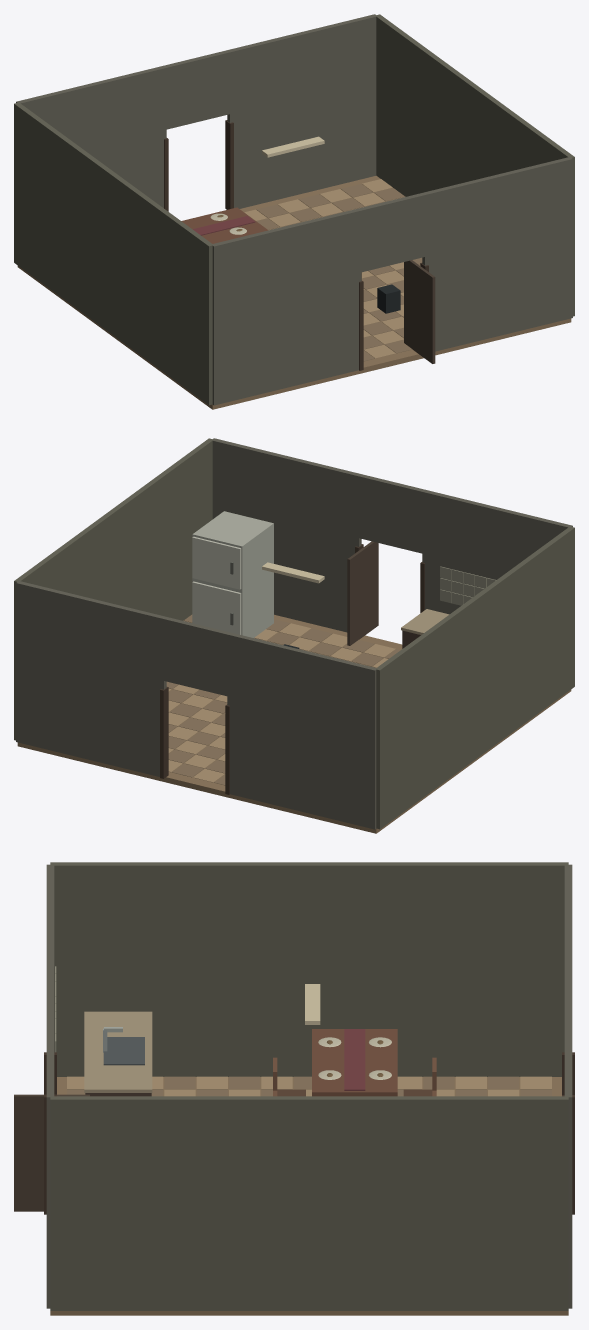
Rendered from cocinaC3.obj.
3 views of the same model, one above another, from view 1: azimuth 30°, elevation 25°; view 2: azimuth 150°, elevation 25°; view 3: azimuth 270°, elevation 25° (orthographic). The views are drawn at different scales.
Parts seen in each view (by area): view 1: cocinaCustom_256, cocinaCustom_263, cocinaCustom_264, cocinaCustom_259, cocinaCustom_257, Decoración, cocinaCustom_258, cocinaCustom_265, cocinaCustom_260, cocinaCustom_0, Bolsa_de_basura; view 2: cocinaCustom_256, cocinaCustom_258, cocinaCustom_259, Decoración, cocinaCustom_257, cocinaCustom_264, cocinaCustom_263, cocinaCustom_303, cocinaCustom_260, cocinaCustom_265, cocinaCustom_0; view 3: cocinaCustom_257, cocinaCustom_256, Decoración, cocinaCustom_0, cocinaCustom_259, cocinaCustom_264, cocinaCustom_258, cocinaCustom_263.
Boxes of the visible parts, <box> form: cocinaCustom_256: <box>14,103,212,405</box>; cocinaCustom_263: <box>211,208,361,405</box>; cocinaCustom_264: <box>422,157,572,351</box>; cocinaCustom_259: <box>227,14,376,208</box>; cocinaCustom_257: <box>375,14,574,316</box>; Decoración: <box>164,120,435,370</box>; cocinaCustom_258: <box>16,65,166,207</box>; cocinaCustom_265: <box>359,193,424,272</box>; cocinaCustom_260: <box>164,50,229,129</box>; cocinaCustom_0: <box>17,175,571,409</box>; Bolsa_de_basura: <box>377,284,400,313</box>; cocinaCustom_256: <box>375,527,574,829</box>; cocinaCustom_258: <box>227,632,376,829</box>; cocinaCustom_259: <box>16,581,166,776</box>; Decoración: <box>160,536,496,794</box>; cocinaCustom_257: <box>14,438,213,740</box>; cocinaCustom_264: <box>212,438,361,632</box>; cocinaCustom_263: <box>422,489,572,614</box>; cocinaCustom_303: <box>192,511,273,637</box>; cocinaCustom_260: <box>164,617,229,696</box>; cocinaCustom_265: <box>359,474,424,553</box>; cocinaCustom_0: <box>17,614,571,833</box>; cocinaCustom_257: <box>50,1096,568,1310</box>; cocinaCustom_256: <box>50,862,568,1076</box>; Decoración: <box>14,966,574,1214</box>; cocinaCustom_0: <box>50,1077,568,1315</box>; cocinaCustom_259: <box>564,1001,572,1308</box>; cocinaCustom_264: <box>46,1001,54,1308</box>; cocinaCustom_258: <box>564,864,572,960</box>; cocinaCustom_263: <box>46,864,54,960</box>.
Size of the model in its own units: 17.34 by 7.44 by 17.32.
